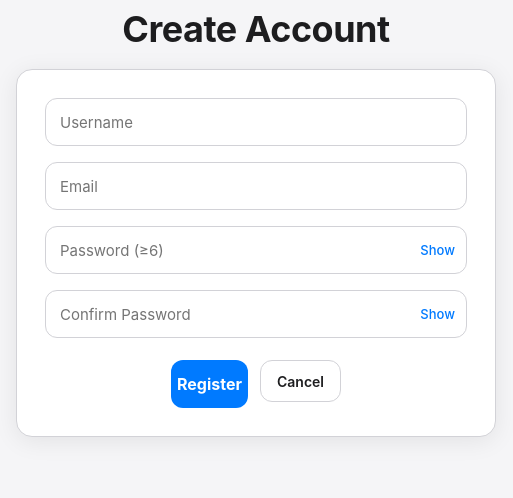
Test case: RegisterPage › shows error message when registration fails
Type "dup" into the field with placeholder "Username".
click(256, 122); type("dup")  # box top-left (45, 98), bottom-right (467, 146)
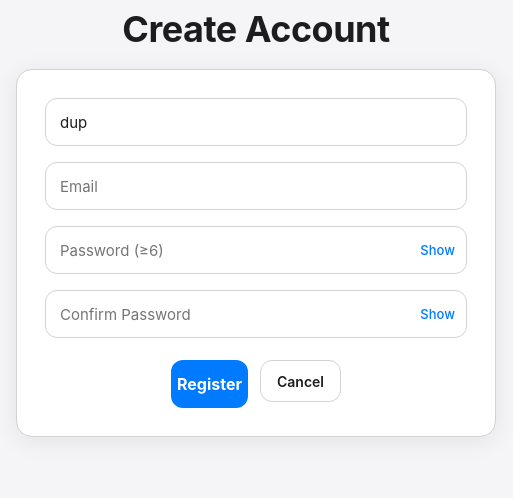
Type "dup@example.com" into the field with placeholder "Email".
click(256, 186); type("dup@example.com")  # box top-left (45, 162), bottom-right (467, 210)
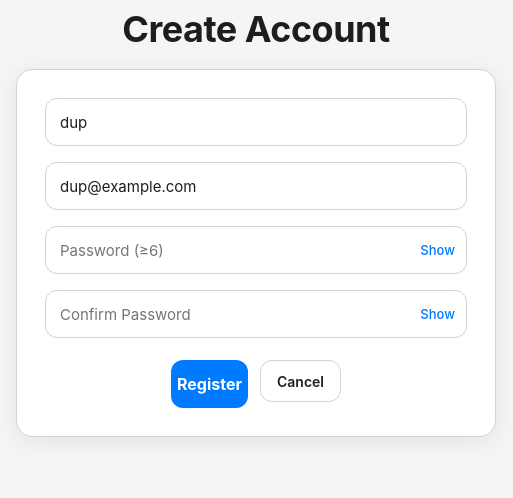
Type "password123" into the password field with placeholder "Password (≥6)".
click(256, 250); type("password123")  # box top-left (45, 226), bottom-right (467, 274)
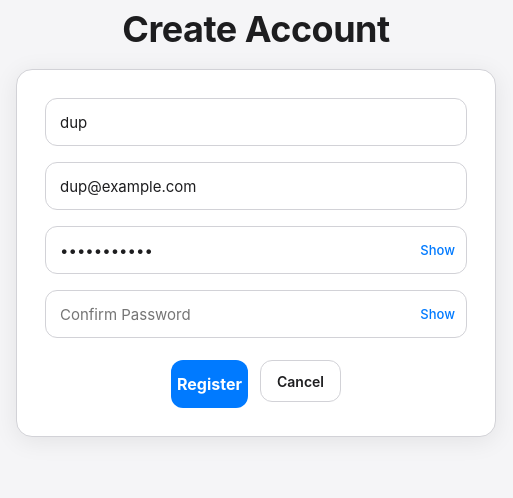
Type "password123" into the password field with placeholder "Confirm Password".
click(256, 314); type("password123")  # box top-left (45, 290), bottom-right (467, 338)
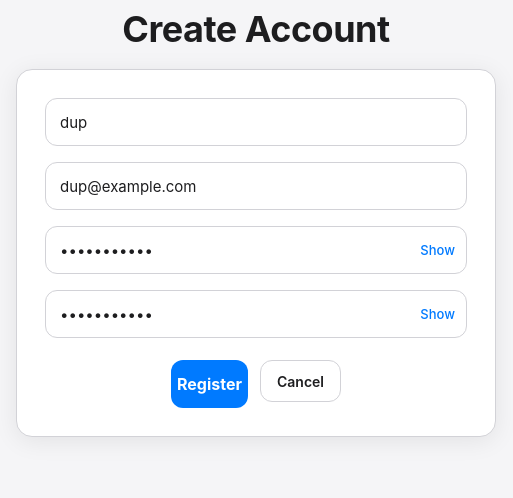
Submit the form "Show Show Register Cancel", box top-left (45, 98), bottom-right (467, 408)
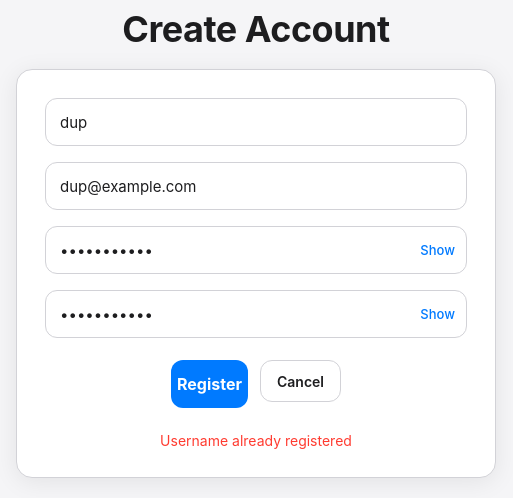
Expected: the text "Username already registered" is shown, top-left (160, 432), bottom-right (352, 449)
